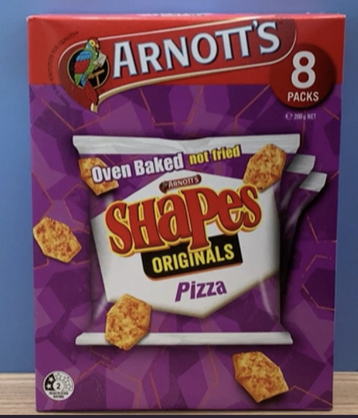crackers_200g-299g: (38, 27, 330, 403)
